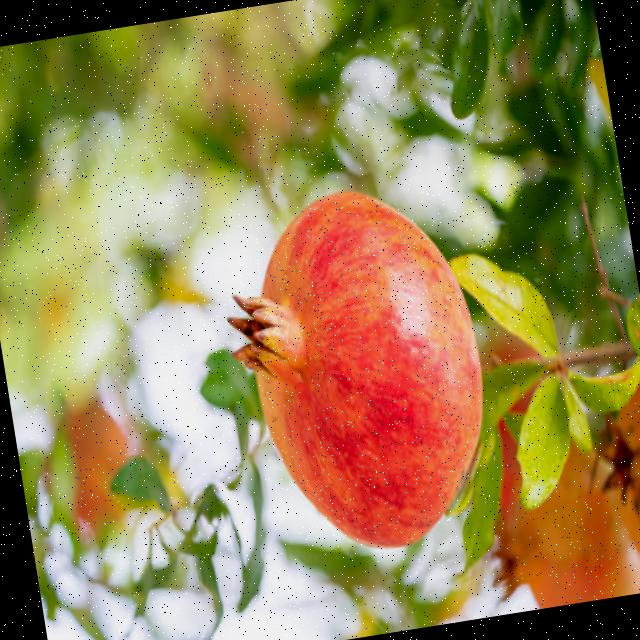Ripe: (204, 173, 511, 582)
